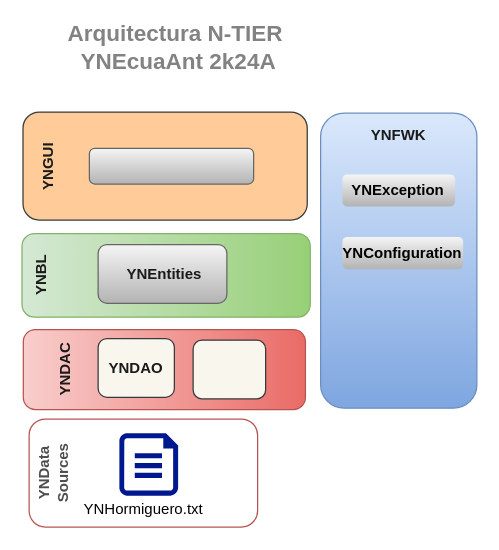
The diagram is 499 pixels wide and 550 high, and some of its shapes have lost their labels. The shapes that lost their labels are listed below. From the top down, each one's centre as x and y in pixels, then its label:
At pixel 171 165: "YNUI Component".
At pixel 229 369: "YNDTO".
